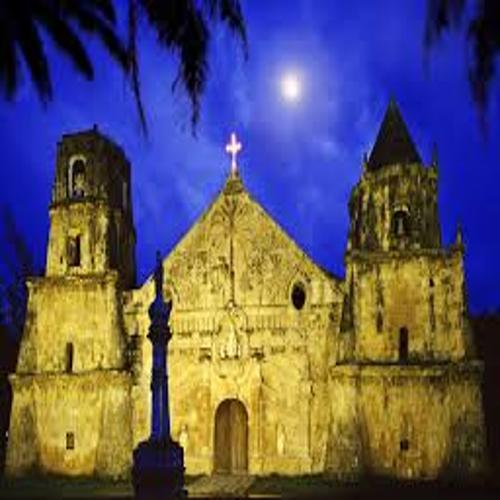Miagao Church: (12, 91, 493, 488)
